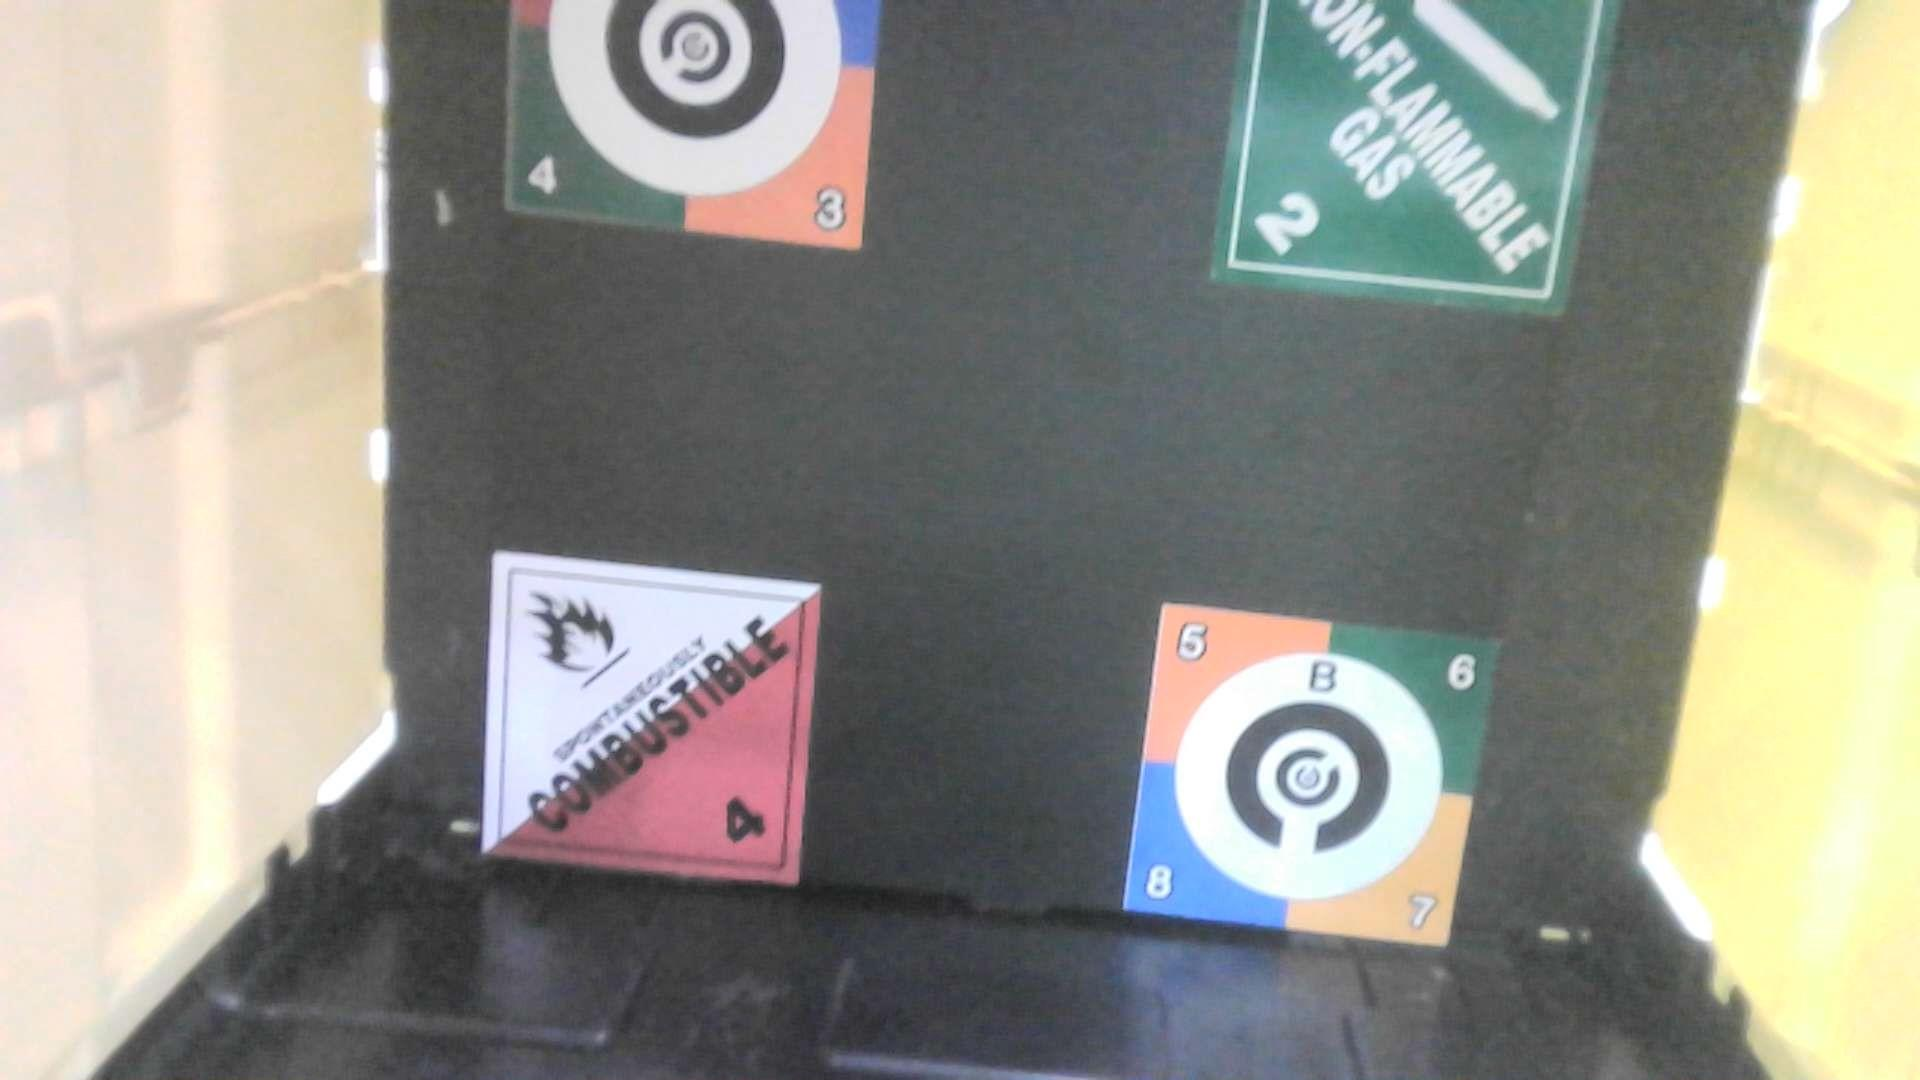non-flammable-gas: (1187, 1, 1640, 327)
spontaneously-combustible: (447, 549, 836, 914)
